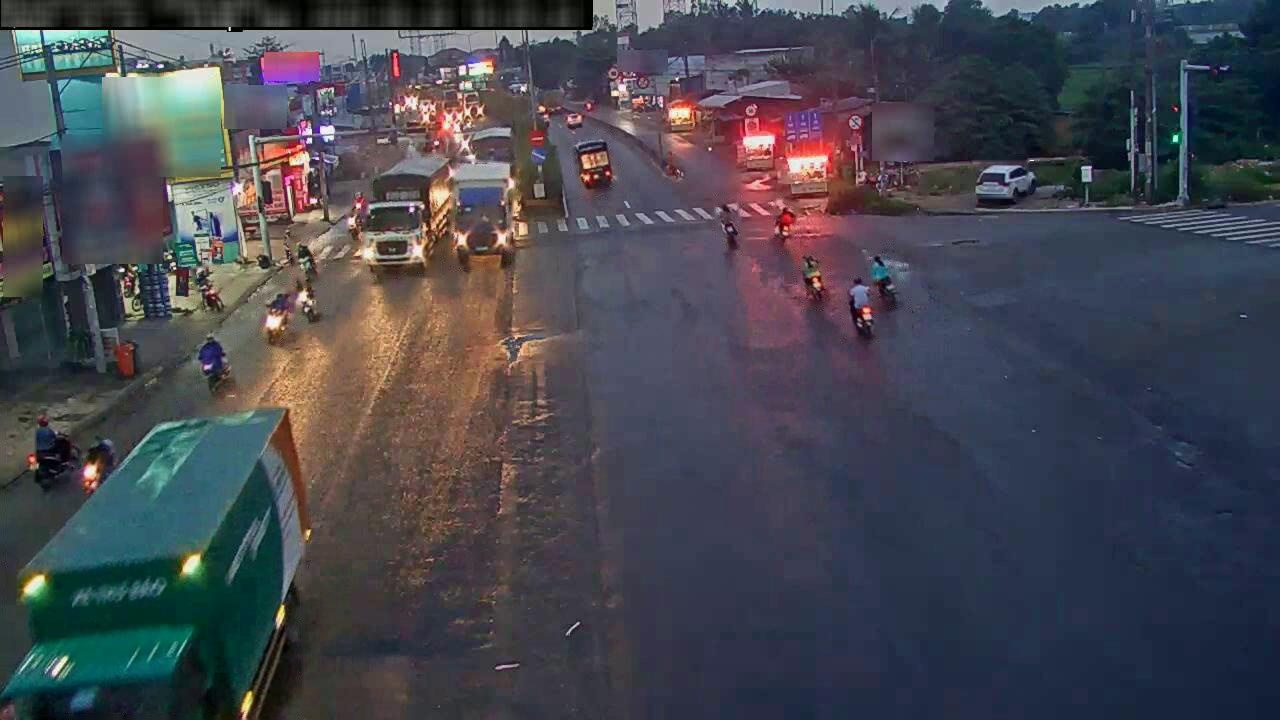Bus: (360, 151, 452, 276)
Car: (0, 408, 311, 719), (975, 165, 1037, 205), (575, 140, 612, 187), (565, 112, 583, 128)
Motorcycle: (263, 295, 290, 343), (297, 288, 318, 322), (722, 221, 738, 250)
Motorcyclist: (27, 413, 82, 490), (78, 436, 115, 495), (196, 333, 231, 394), (848, 277, 874, 338), (871, 255, 897, 307), (195, 266, 224, 312), (802, 255, 825, 300), (293, 242, 317, 282), (775, 208, 795, 239), (345, 207, 362, 240)
Traffic light: (390, 51, 400, 77)
Truck: (452, 162, 515, 269)
